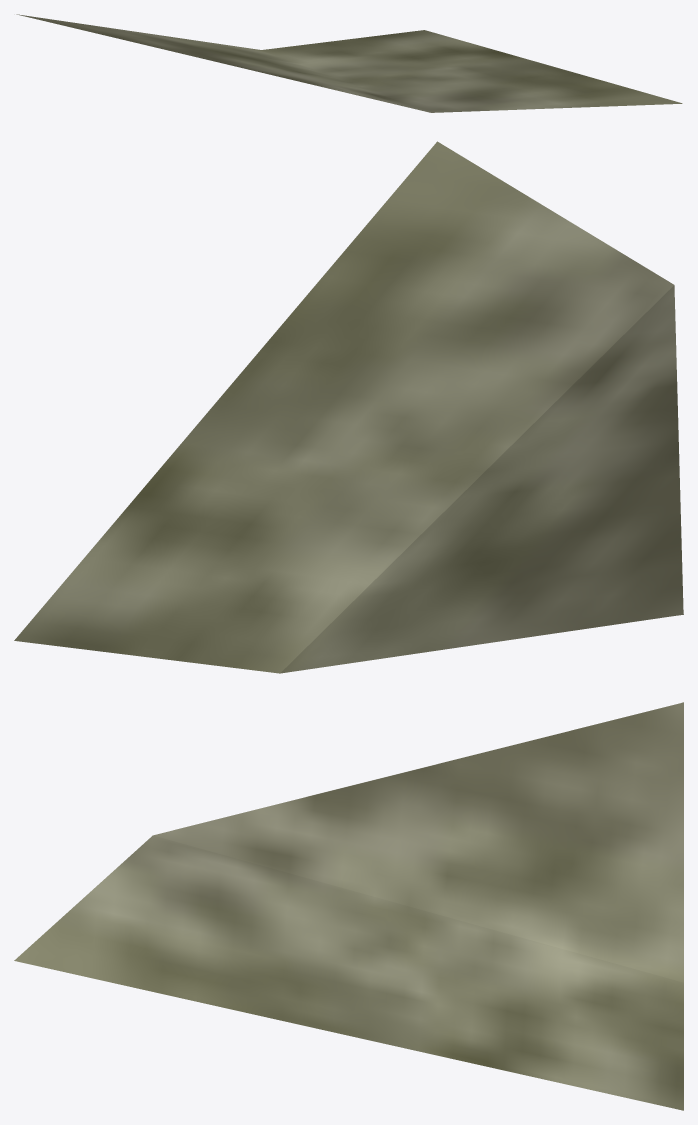
3 renders of one model, top to bottom at view 1: azimuth 30°, elevation 25°; view 2: azimuth 150°, elevation 25°; view 3: azimuth 270°, elevation 25°, orthographic. The views are drawn at different scales.
Size of the model in its own units: 0.3919 by 0.1059 by 0.4289.
1 material, 1 textured.
